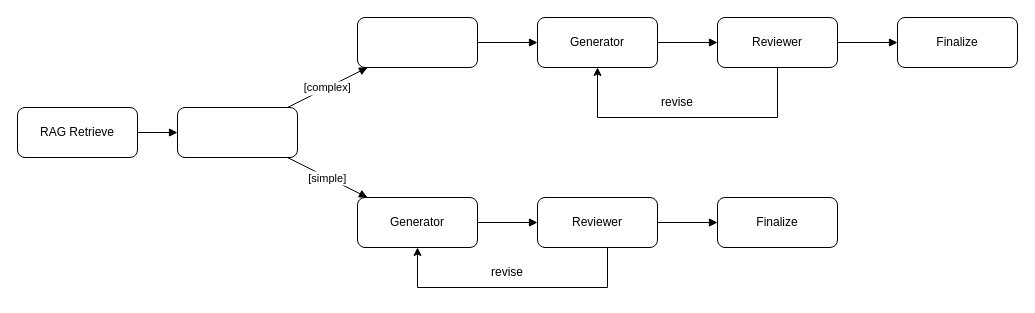
Some shapes in this 1035 by 313 pixel diagram are drawn without their labels. The shapes that lost their labels are listed below. From the top down, each one's box as (x1, y1, x2, y2) in pixels, then its label:
(356, 16, 478, 68): Planner
(176, 106, 298, 158): Router
